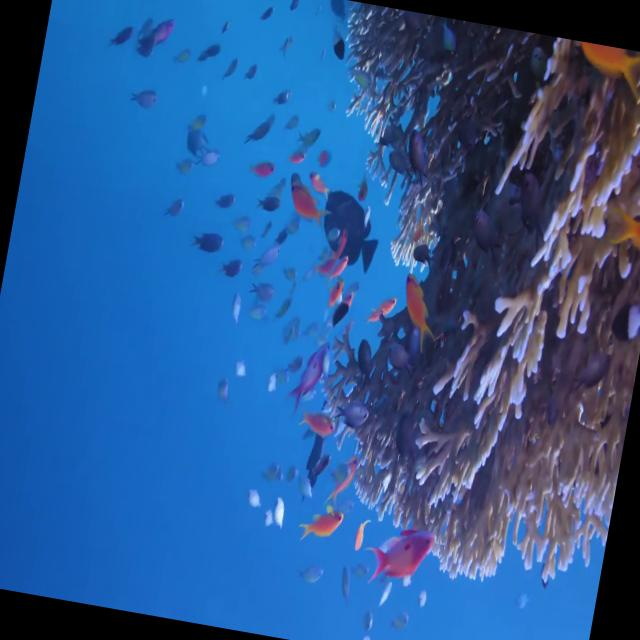fish: (316, 186, 389, 276), (283, 334, 334, 424), (392, 266, 446, 351), (370, 522, 430, 591), (275, 168, 324, 238)
